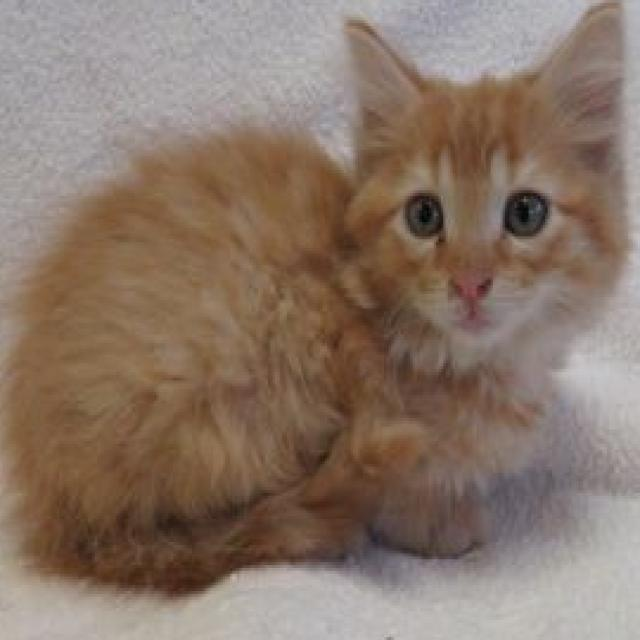Maine Coon: (2, 0, 633, 597)
